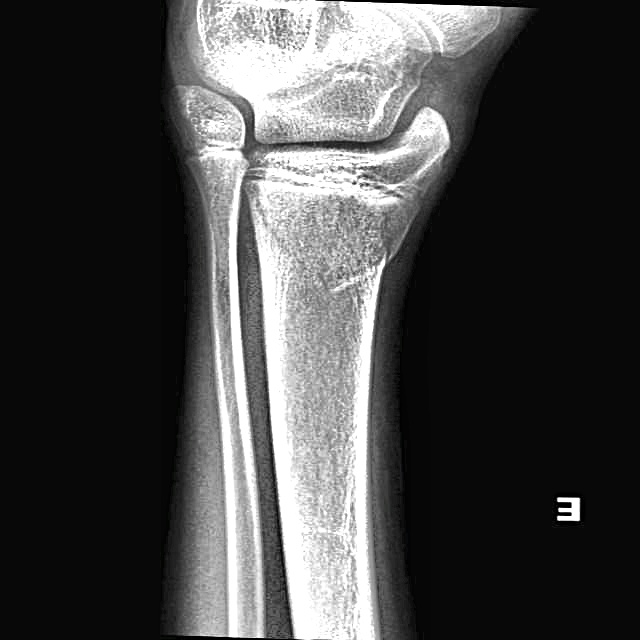Oblique Displaced: (257, 175, 378, 305)
